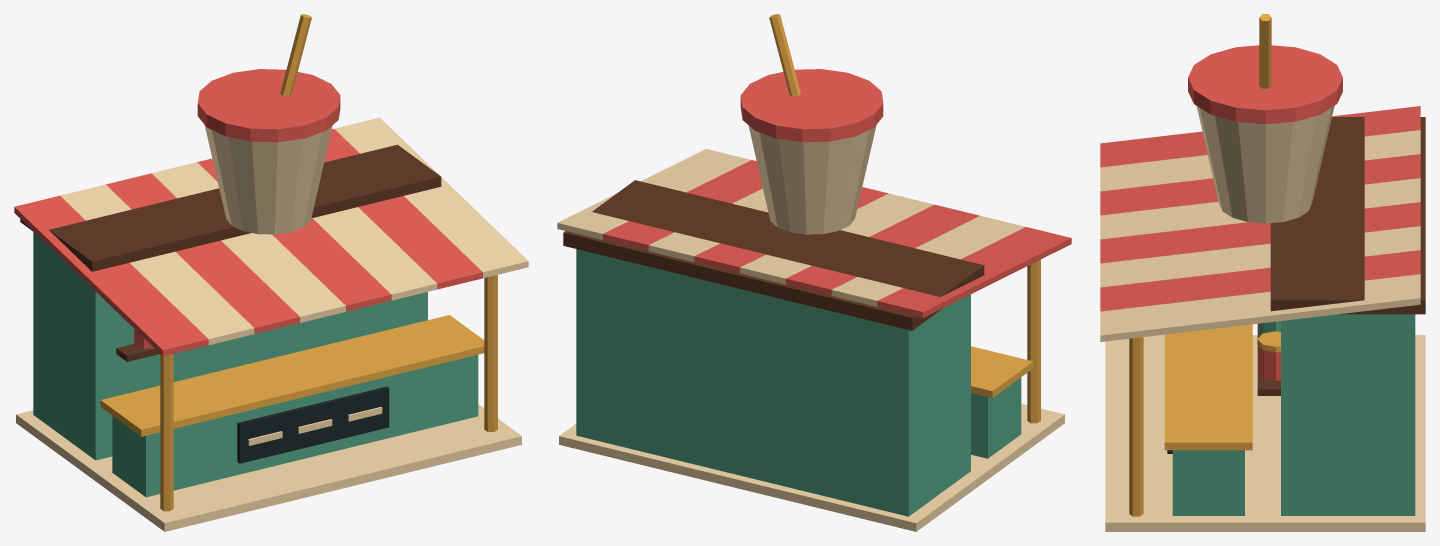
The model's file is ParkParkShopBubbleTea.obj.
3 views of the same model, side by side, from view 1: azimuth 30°, elevation 25°; view 2: azimuth 150°, elevation 25°; view 3: azimuth 270°, elevation 25° (orthographic). The views are drawn at different scales.
Visible parts, largest first — view 1: ParkParkShopBubbleTea; view 2: ParkParkShopBubbleTea; view 3: ParkParkShopBubbleTea.
Part boxes in pixels (<box>): ParkParkShopBubbleTea: <box>14,14,528,531</box>; ParkParkShopBubbleTea: <box>557,14,1071,531</box>; ParkParkShopBubbleTea: <box>1100,14,1425,531</box>.
Size of the model in its own units: 8.8 by 9.43 by 6.3.
